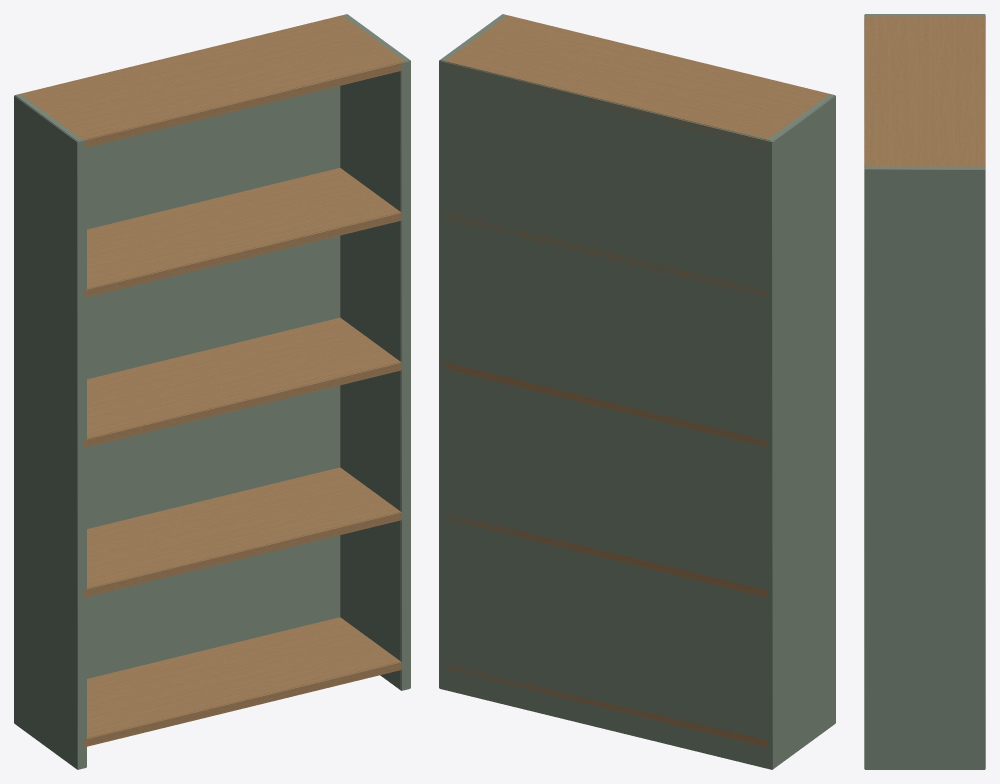
The model's file is country.bookcase.gltf.
3 renders of one model, left to right at view 1: azimuth 30°, elevation 25°; view 2: azimuth 150°, elevation 25°; view 3: azimuth 270°, elevation 25°, orthographic. The views are drawn at different scales.
Visible parts, largest first — view 1: country.bookcase.upright; view 2: country.bookcase.upright; view 3: country.bookcase.upright.
Part boxes in pixels (x1,y1,x2,y2): country.bookcase.upright: (14, 14, 410, 769); country.bookcase.upright: (439, 14, 835, 769); country.bookcase.upright: (864, 14, 985, 769).
Size of the model in its own units: 1 by 1.8 by 0.33.
Materials: 2 (1 with a texture image).
